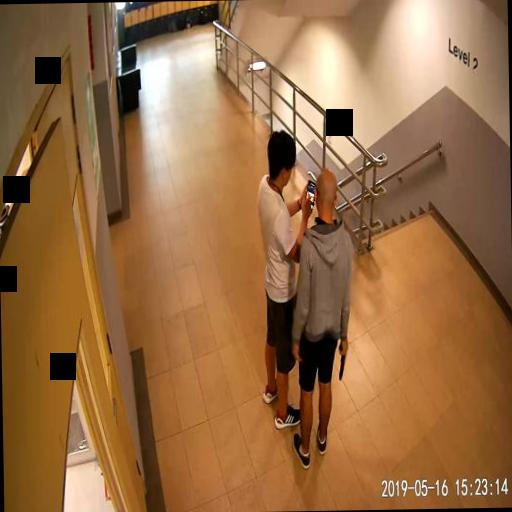Handgun: (338, 340, 348, 378)
